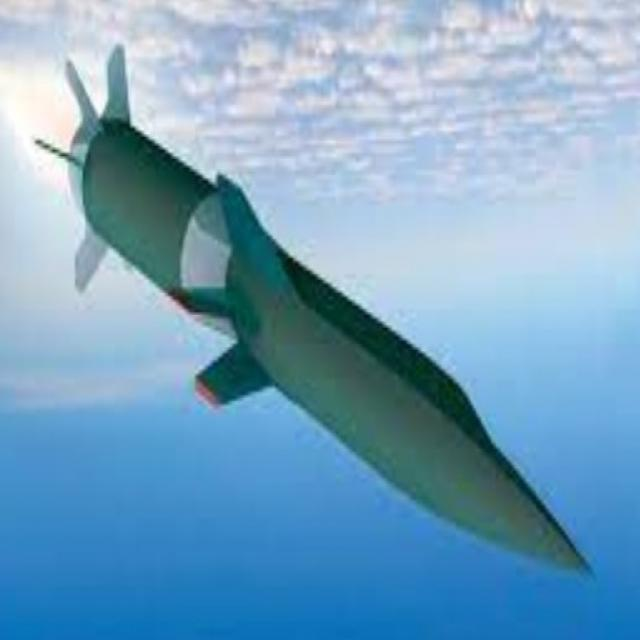missile: (42, 38, 596, 582)
